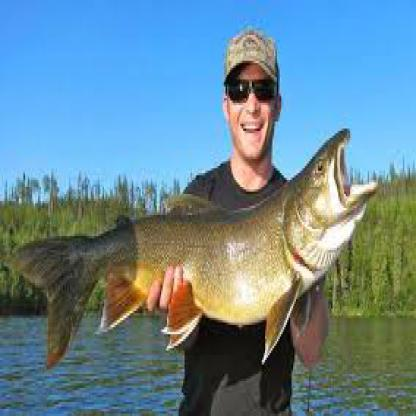fish: (11, 128, 373, 365)
